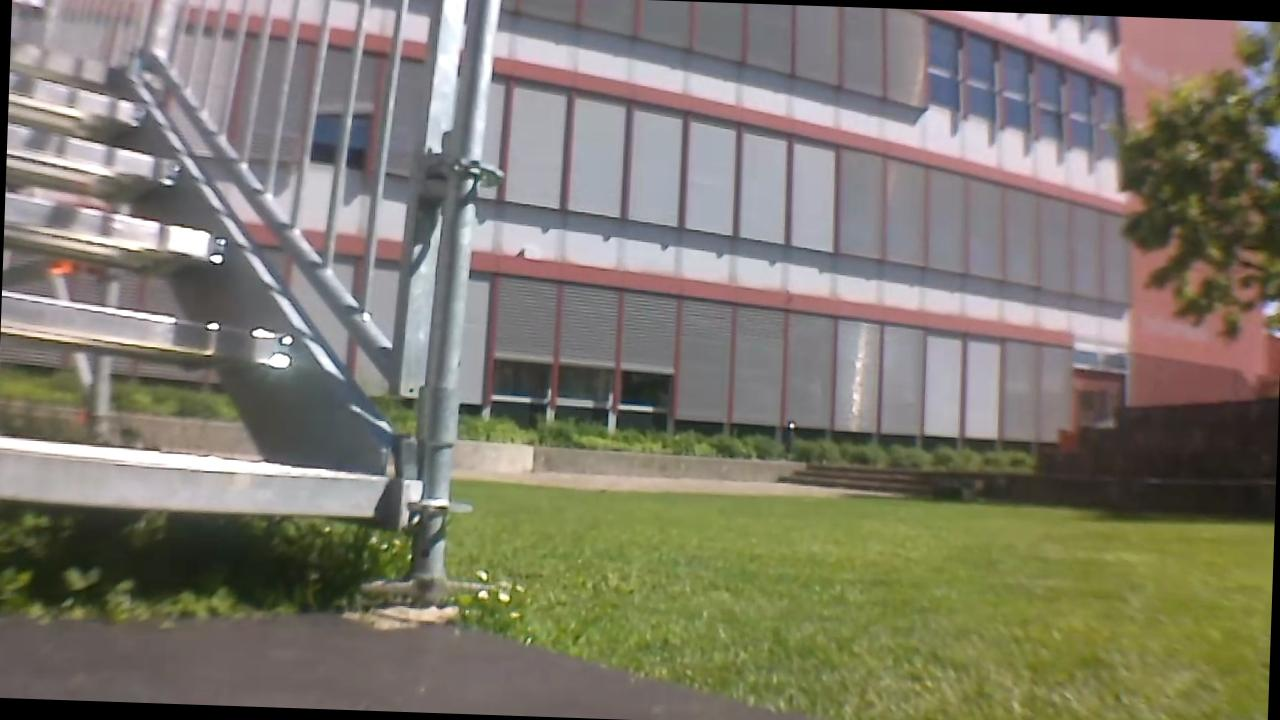edge: (3, 207, 248, 255)
